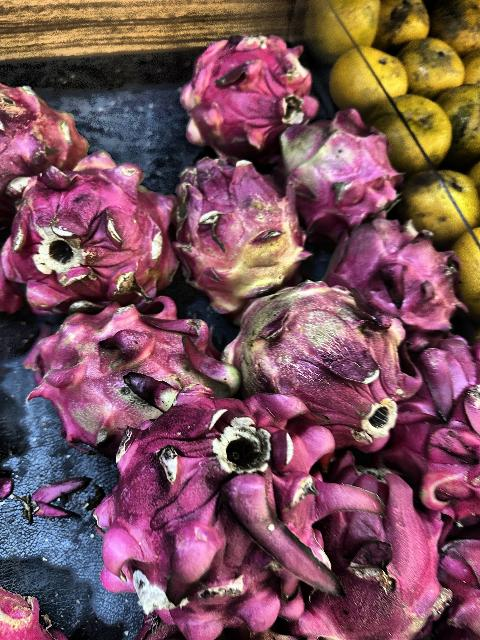buah-naga-belum-matang: (236, 272, 416, 454), (30, 296, 228, 414), (172, 150, 310, 290), (331, 220, 461, 330), (276, 116, 404, 222)
buah-naga-matang: (114, 390, 344, 620), (3, 151, 182, 303), (318, 450, 446, 640), (183, 34, 319, 154), (404, 328, 480, 512), (0, 78, 94, 180)
